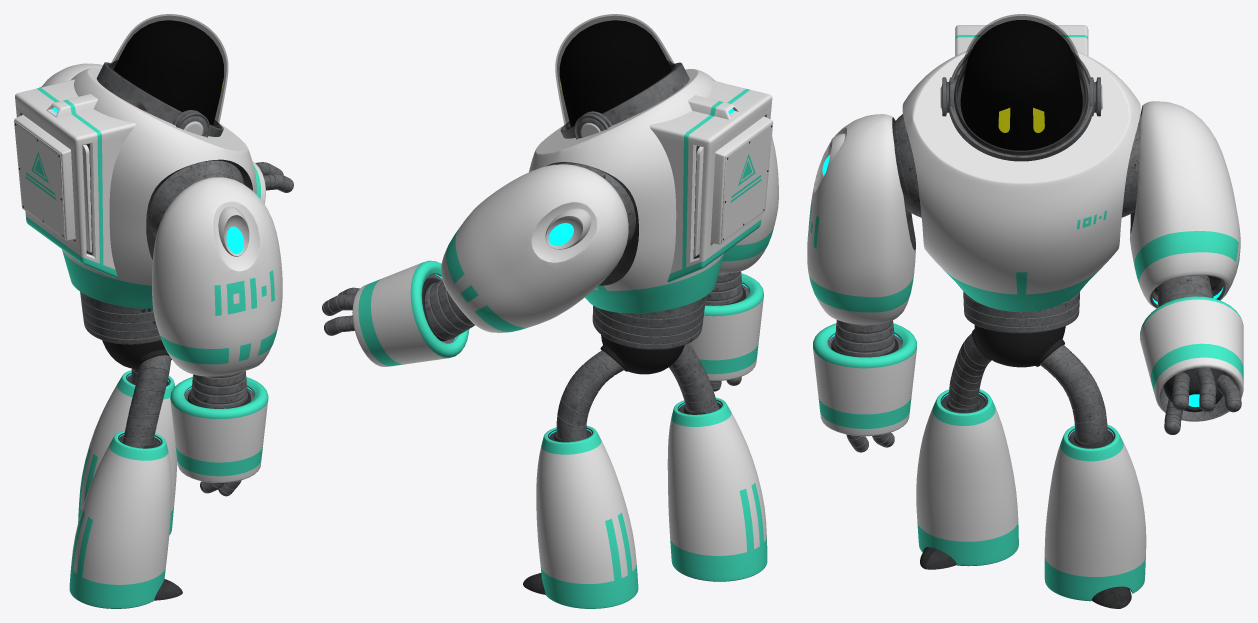
Rendered from soma.glb.
3 views of the same model, side by side, from view 1: azimuth 30°, elevation 25°; view 2: azimuth 150°, elevation 25°; view 3: azimuth 270°, elevation 25° (orthographic). The views are drawn at different scales.
Parts seen in each view (by area): view 1: Sphere.007, Sphere.005, Cylinder.019, Cube.001, Cylinder.013, Cylinder.010, Cylinder.016, Cube.002, Cylinder.009, Cylinder.001, Cylinder.004, Sphere.002 (+9 smaller); view 2: Cylinder.017, Sphere.005, Cylinder.019, Cylinder.009, Cube.001, Cylinder.013, Cylinder.016, Cylinder.022, Cylinder.010, Cube.002, Cylinder.001, Cylinder.003 (+9 smaller); view 3: Sphere.005, Sphere.007, Cylinder.017, Cylinder.013, Cylinder.019, Cylinder.009, Cylinder.016, Cylinder.010, Cylinder.022, Cylinder.003, Cylinder.014, Cylinder.001 (+13 smaller).
Boxes of the visible parts, <box> form: Sphere.007: <box>152,177,282,376</box>; Sphere.005: <box>62,68,256,308</box>; Cylinder.019: <box>69,430,171,608</box>; Cube.001: <box>14,79,135,278</box>; Cylinder.013: <box>109,14,228,127</box>; Cylinder.010: <box>170,377,268,482</box>; Cylinder.016: <box>114,20,223,125</box>; Cube.002: <box>14,120,65,239</box>; Cylinder.009: <box>78,370,177,534</box>; Cylinder.001: <box>80,291,161,344</box>; Cylinder.004: <box>123,355,170,448</box>; Sphere.002: <box>149,160,244,237</box>; Cylinder.017: <box>441,164,628,332</box>; Sphere.005: <box>529,69,724,313</box>; Cylinder.019: <box>667,397,767,581</box>; Cylinder.009: <box>536,425,638,608</box>; Cube.001: <box>649,80,772,282</box>; Cylinder.013: <box>555,14,676,129</box>; Cylinder.016: <box>559,20,671,126</box>; Cylinder.022: <box>352,260,469,366</box>; Cylinder.010: <box>689,273,763,380</box>; Cube.002: <box>721,122,773,243</box>; Cylinder.001: <box>592,296,706,349</box>; Cylinder.003: <box>556,350,624,441</box>; Sphere.005: <box>902,49,1140,312</box>; Sphere.007: <box>807,114,915,324</box>; Cylinder.017: <box>1129,101,1240,308</box>; Cylinder.013: <box>956,14,1088,155</box>; Cylinder.019: <box>916,389,1018,566</box>; Cylinder.009: <box>1044,424,1146,601</box>; Cylinder.016: <box>960,20,1082,150</box>; Cylinder.010: <box>813,323,916,436</box>; Cylinder.022: <box>1140,296,1243,421</box>; Cylinder.003: <box>1040,345,1107,443</box>; Cylinder.014: <box>949,50,1092,161</box>; Cylinder.001: <box>963,291,1080,333</box>.
Size of the model in its own units: 3.32 by 5.09 by 3.55.
Materials: 12 (3 with a texture image).
